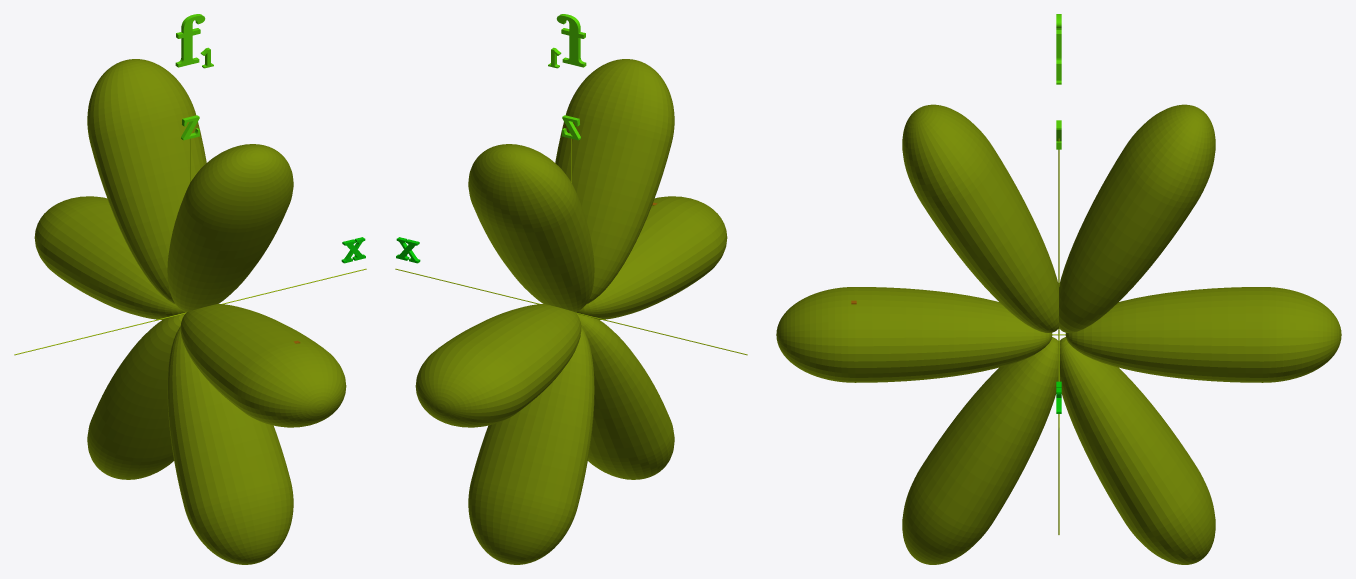
The picture shows the model from 3 angles, left to right: view 1: azimuth 30°, elevation 25°; view 2: azimuth 150°, elevation 25°; view 3: azimuth 270°, elevation 25°; orthographic projection. The views are drawn at different scales.
Visible parts, largest first — view 1: Mesh_Mesh_head_geo001_lambert2SG001; view 2: Mesh_Mesh_head_geo001_lambert2SG001; view 3: Mesh_Mesh_head_geo001_lambert2SG001.
Part boxes in pixels (x1,y1,x2,y2): Mesh_Mesh_head_geo001_lambert2SG001: (14, 14, 366, 564); Mesh_Mesh_head_geo001_lambert2SG001: (395, 14, 747, 564); Mesh_Mesh_head_geo001_lambert2SG001: (776, 14, 1341, 564).
Size of the model in its own units: 84 by 115 by 108.
